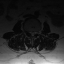CCS_normal: (31, 30, 33, 37)
LFS_stenosis: (35, 30, 37, 36)
LLS_normal: (33, 30, 35, 36)
RFS_stenosis: (27, 29, 29, 34)
RLS_normal: (29, 30, 31, 36)
